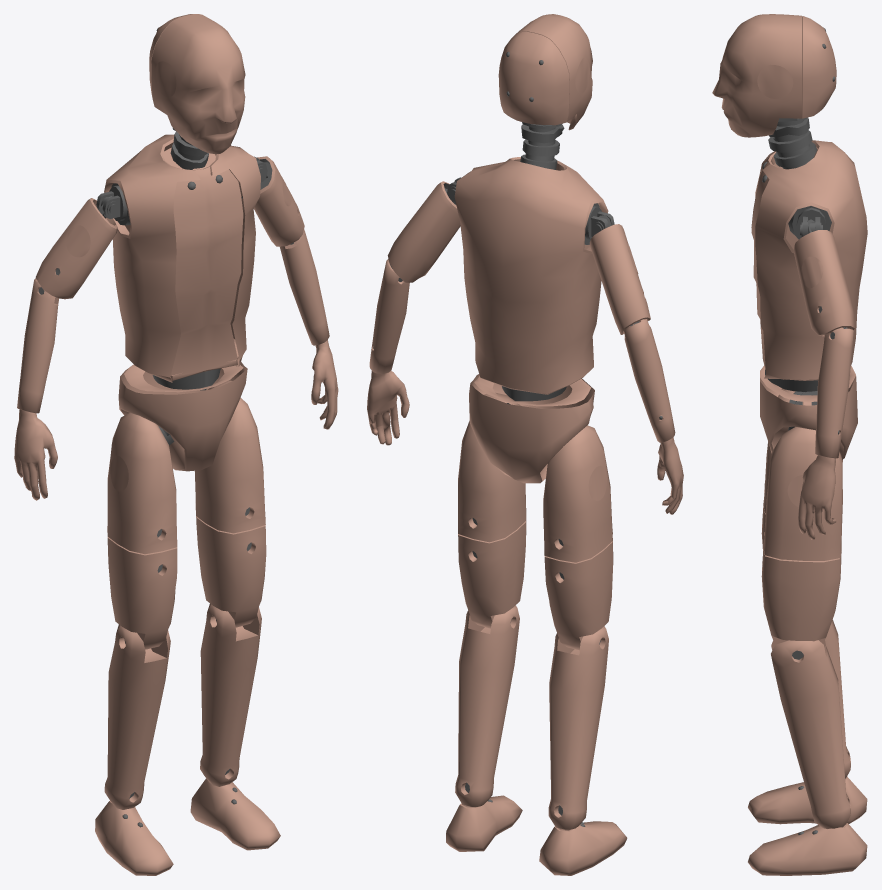
The model's file is Dummy.fbx.
3 views of the same model, side by side, from view 1: azimuth 30°, elevation 25°; view 2: azimuth 150°, elevation 25°; view 3: azimuth 270°, elevation 25° (orthographic). The views are drawn at different scales.
Parts seen in each view (by area): view 1: Dummy_Untitled; view 2: Dummy_Untitled; view 3: Dummy_Untitled.
Part boxes in pixels (box(x1,y1,x2,y2)): Dummy_Untitled: box(14, 14, 338, 875); Dummy_Untitled: box(367, 14, 683, 875); Dummy_Untitled: box(712, 14, 867, 875).
Size of the model in its own units: 71.73 by 178 by 30.59.
